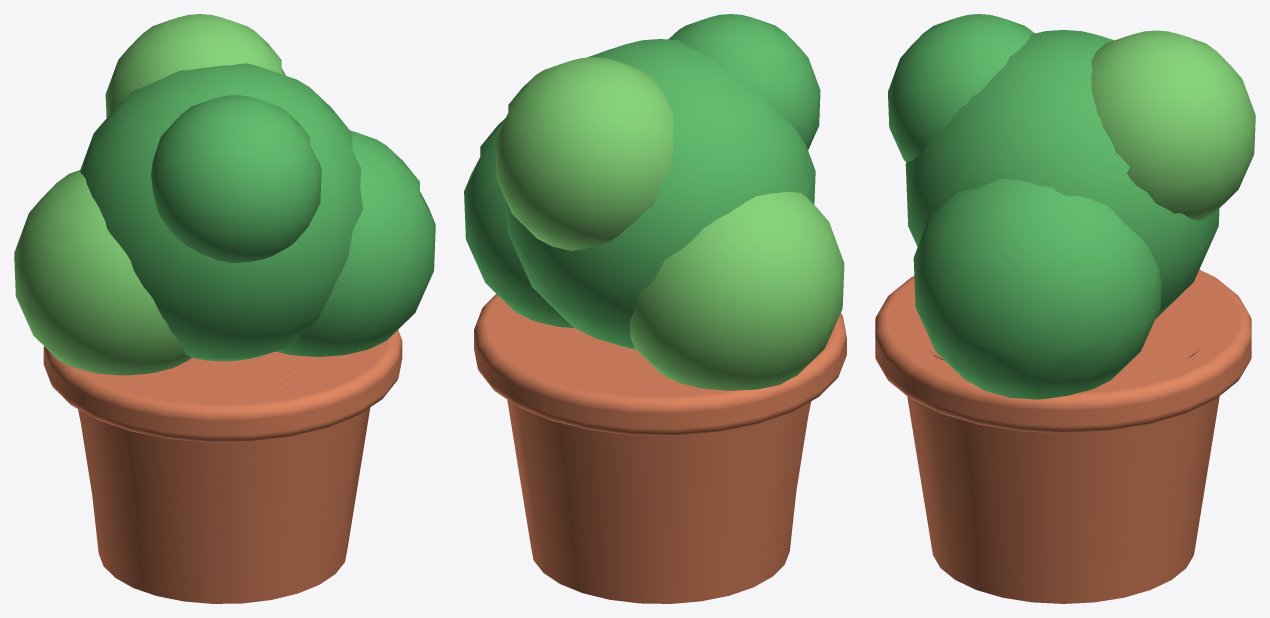
Rendered from Plant.glb.
The picture shows the model from 3 angles, left to right: view 1: azimuth 30°, elevation 25°; view 2: azimuth 150°, elevation 25°; view 3: azimuth 270°, elevation 25°; orthographic projection. The views are drawn at different scales.
Visible parts, largest first — view 1: leafGreen (×3), potClay (×2), leafLight (×2); view 2: potClay (×2), leafLight (×2), leafGreen (×3); view 3: leafGreen (×3), potClay (×2), leafLight.
Boxes of the visible parts, x1,y1,x2,y2 form: leafGreen (×3): (79, 63, 435, 361); potClay (×2): (43, 330, 402, 603); leafLight (×2): (14, 14, 285, 375); potClay (×2): (474, 294, 846, 603); leafLight (×2): (495, 57, 844, 390); leafGreen (×3): (464, 14, 820, 349); leafGreen (×3): (888, 14, 1219, 399); potClay (×2): (875, 269, 1251, 603); leafLight: (1091, 30, 1255, 220).
Size of the model in its own units: 0.5268 by 0.68 by 0.4515.
